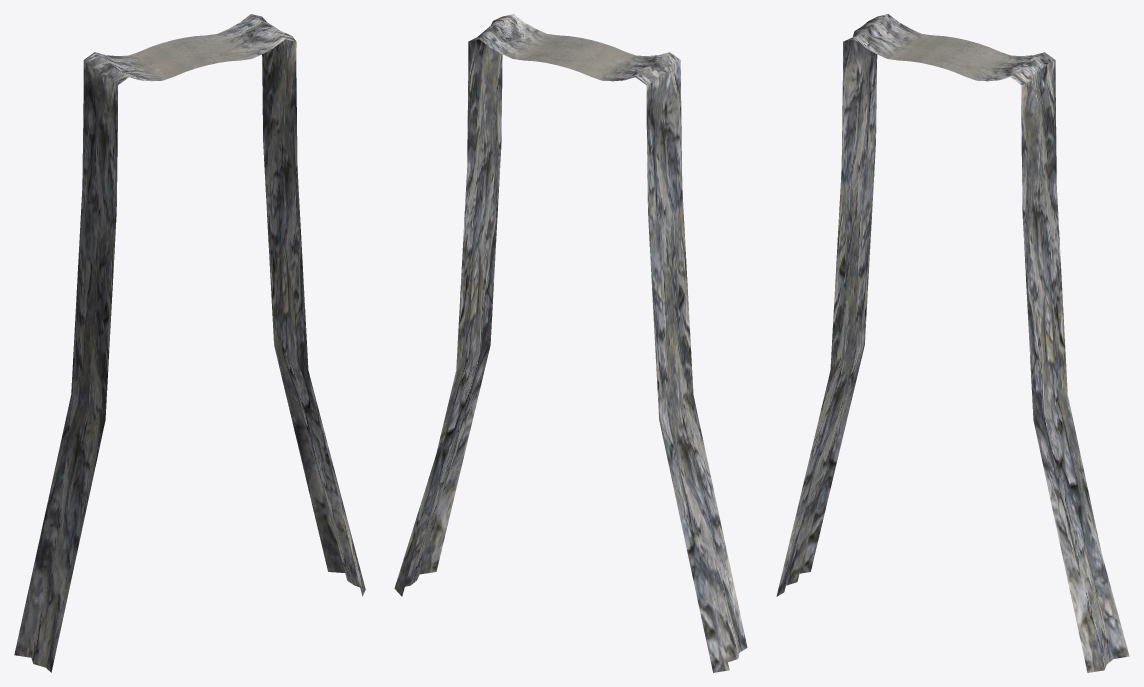
Rendered from PlatformTemple_Middle.FBX.
The picture shows the model from 3 angles, left to right: view 1: azimuth 30°, elevation 25°; view 2: azimuth 150°, elevation 25°; view 3: azimuth 330°, elevation 25°; orthographic projection.
Parts seen in each view (by area): view 1: Box01; view 2: Box01; view 3: Box01.
Part boxes in pixels (x1,y1,x2,y2): Box01: (14, 14, 365, 672); Box01: (394, 14, 747, 672); Box01: (776, 14, 1129, 672).
Bounding box in the file's own units: 1126 × 1851 × 200.
2 materials, 2 textured.
